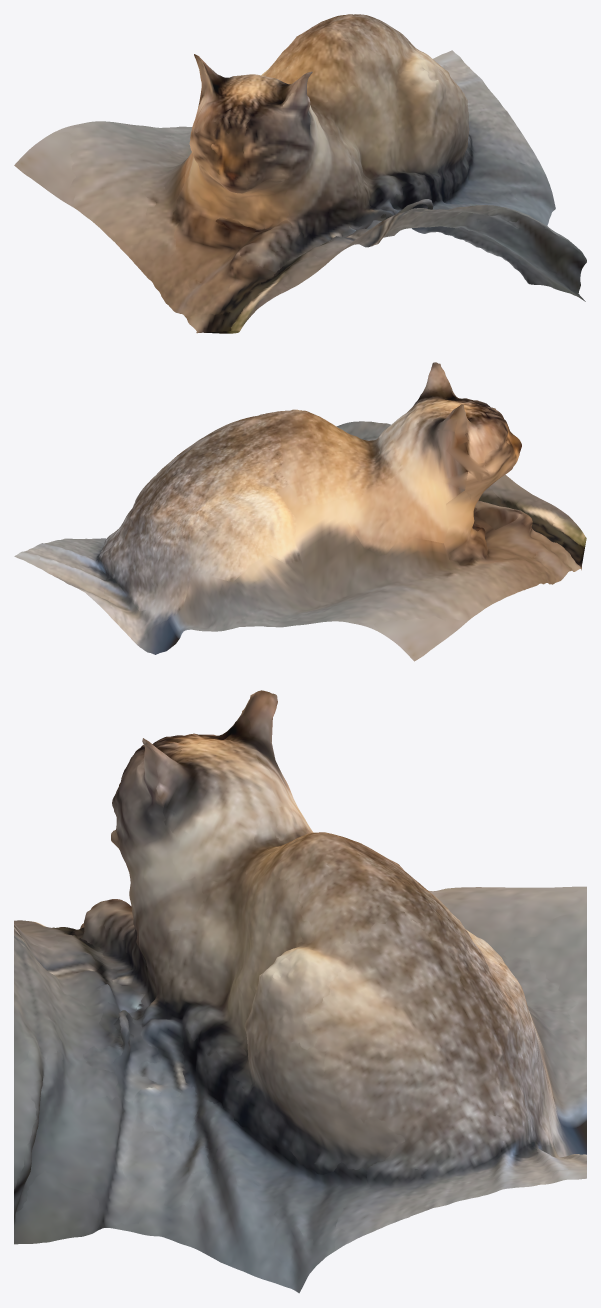
File: sittingcat2.gltf
3 views of the same model, one above another, from view 1: azimuth 30°, elevation 25°; view 2: azimuth 150°, elevation 25°; view 3: azimuth 270°, elevation 25° (orthographic). The views are drawn at different scales.
Visible parts, largest first — view 1: Object_2, Object_3; view 2: Object_2, Object_3; view 3: Object_2, Object_3.
Part boxes in pixels (bbox=[...]): Object_2: bbox=[14, 14, 586, 333]; Object_3: bbox=[69, 50, 586, 310]; Object_2: bbox=[27, 362, 586, 661]; Object_3: bbox=[14, 372, 570, 643]; Object_2: bbox=[14, 690, 586, 1293]; Object_3: bbox=[14, 736, 586, 1245].
Size of the model in its own units: 0.399 by 0.2206 by 0.3261.
Materials: 1 (1 with a texture image).
